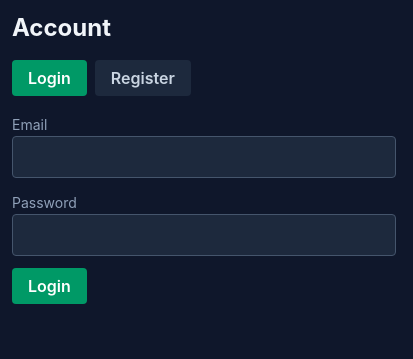
Test: mode switching › clears a stale error when switching modes
This screenshot has width=413, height=359.
Type "k@example.com" into the field labelled "Email".
click(204, 157); type("k@example.com")  # box [12,136,396,178]
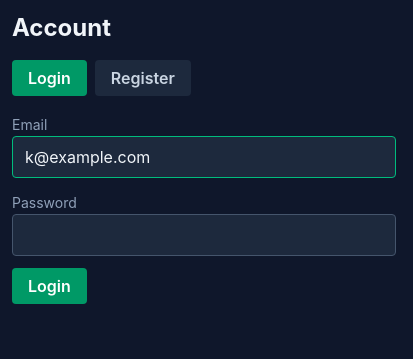
Type "short" into the password field labelled "Password".
click(204, 235); type("short")  # box [12,214,396,256]
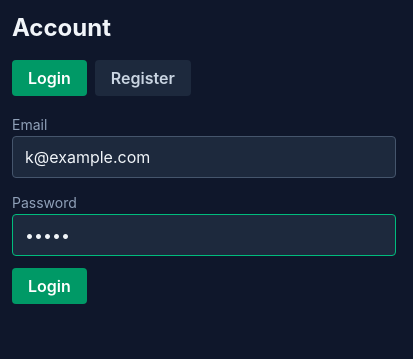
Click the button with test id "auth-submit".
click(49, 286)  # box [12,268,87,304]
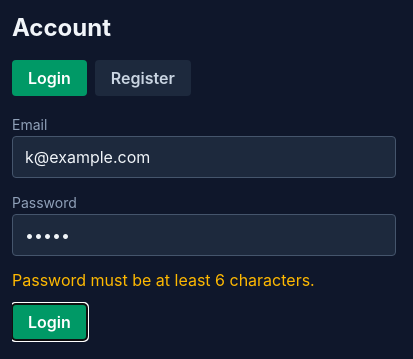
Expected: the text "Password must be at least 6 characters." is shown, [12,270,315,290]
Click the button "Register".
click(143, 78)  # box [95,60,191,96]
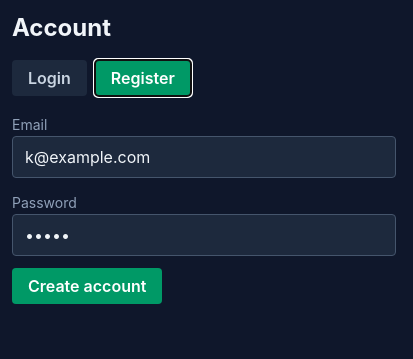
Expected: the text with test id "auth-error" is gone
